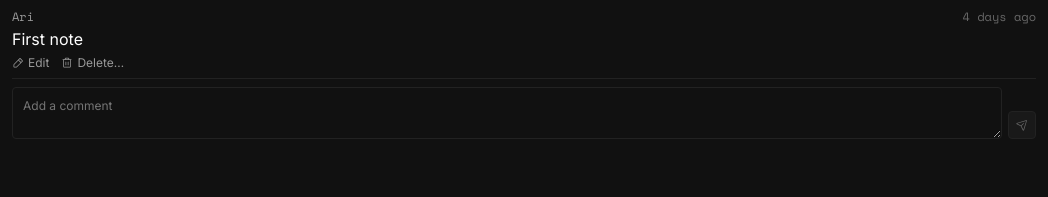
Test: tracker inspector comments section › rolls the optimistic append back and surfaces a rejected post inline
Expected: the text "First note" is shown, [12,29,83,49]
Type "In-flight note" into the text box with placeholder "Add a comment" at (507, 113), box [12,87,1002,139]
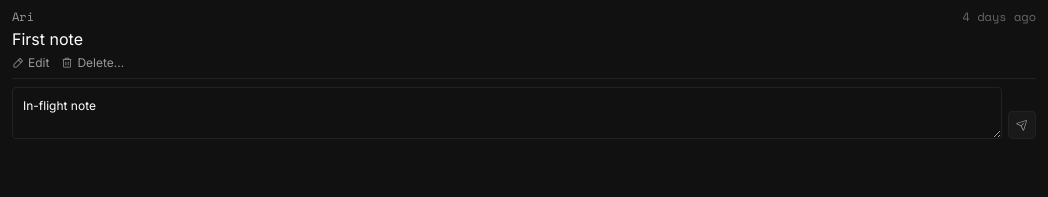
Click the button named "Post comment" at (1022, 125), box [1008,111,1036,139]
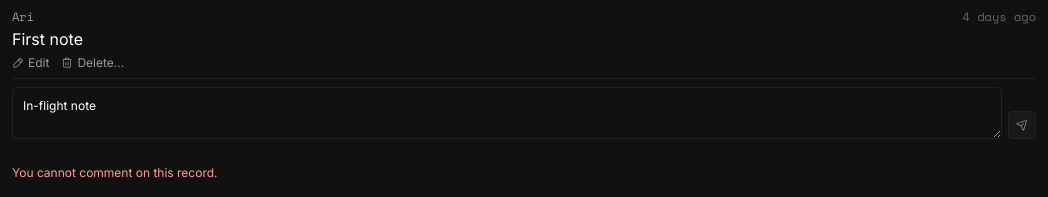
Expected: the message reads "You cannot comment on this record.", [12,165,218,180]
